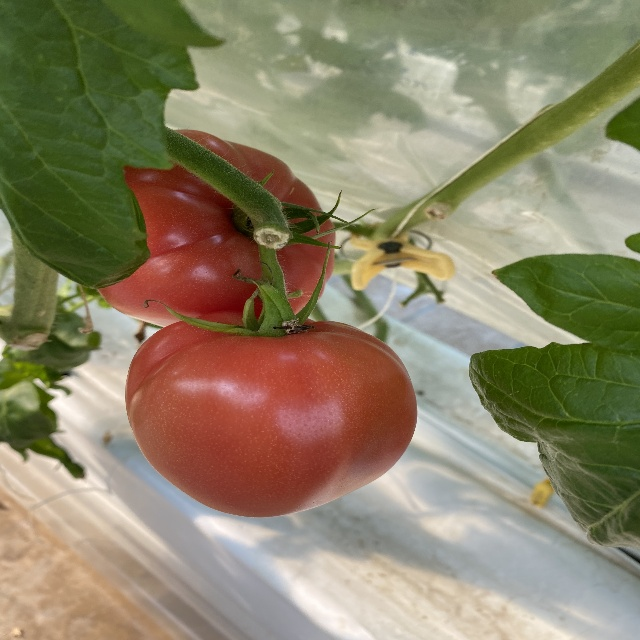b_fully_ripened: (124, 309, 418, 518), (89, 129, 336, 328)
